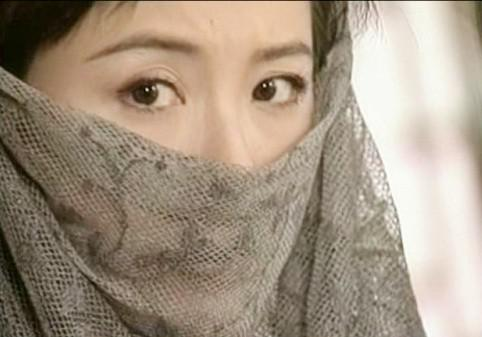WRONG: (54, 36, 325, 317)
